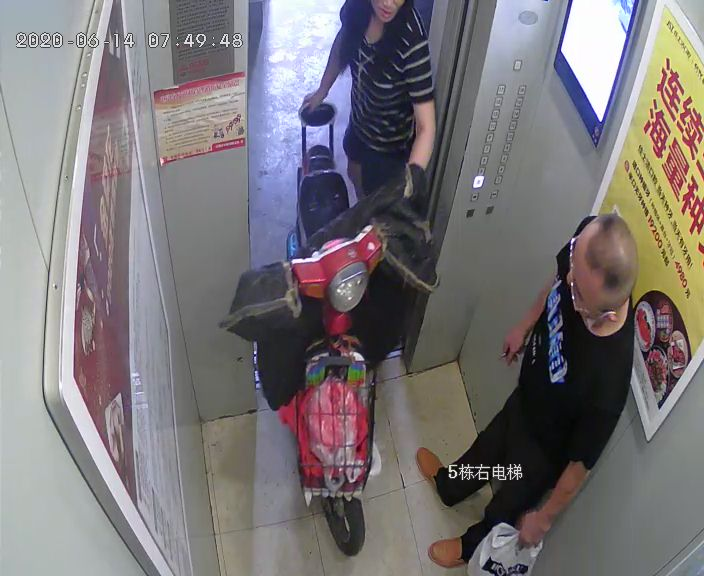Electric-bicycle: (241, 95, 406, 557)
